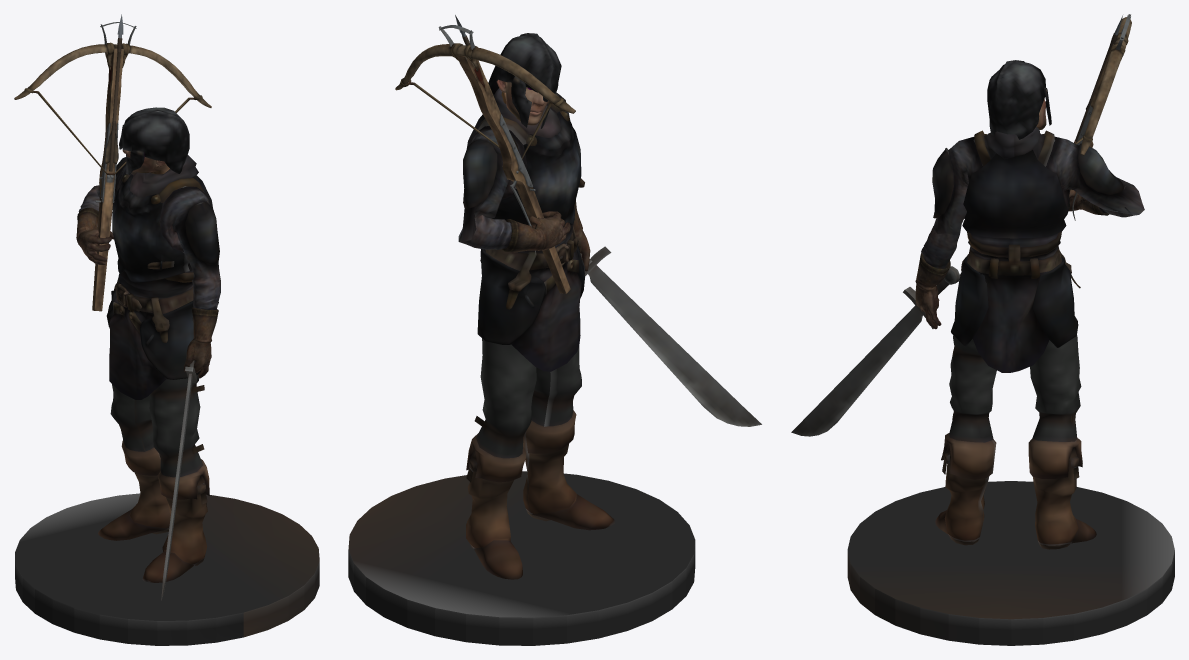
3 views of the same model, side by side, from view 1: azimuth 30°, elevation 25°; view 2: azimuth 150°, elevation 25°; view 3: azimuth 270°, elevation 25° (orthographic). The views are drawn at different scales.
Visible parts, largest first — view 1: headgroup_gatekeeper_medhelm.smd; view 2: headgroup_gatekeeper_medhelm.smd; view 3: headgroup_gatekeeper_medhelm.smd.
Part boxes in pixels (box(x1,y1,x2,y2)): headgroup_gatekeeper_medhelm.smd: box(14, 14, 319, 645); headgroup_gatekeeper_medhelm.smd: box(348, 15, 761, 645); headgroup_gatekeeper_medhelm.smd: box(791, 14, 1174, 645).
Bounding box in the file's own units: 1 × 1.91 × 1.17.
Materials: 1 (1 with a texture image).
